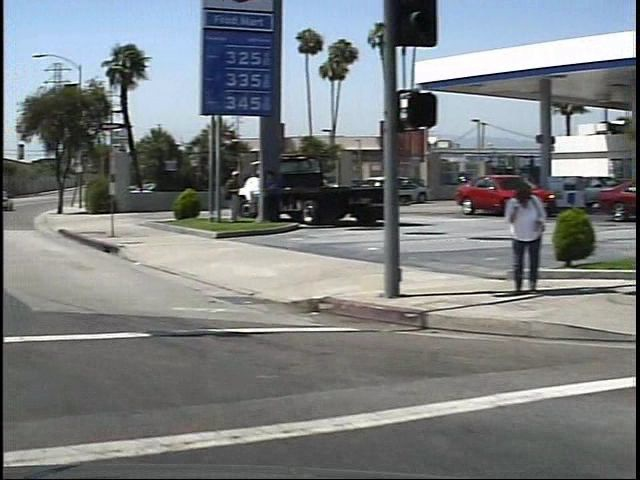person: (490, 179, 535, 299), (214, 169, 238, 229)
